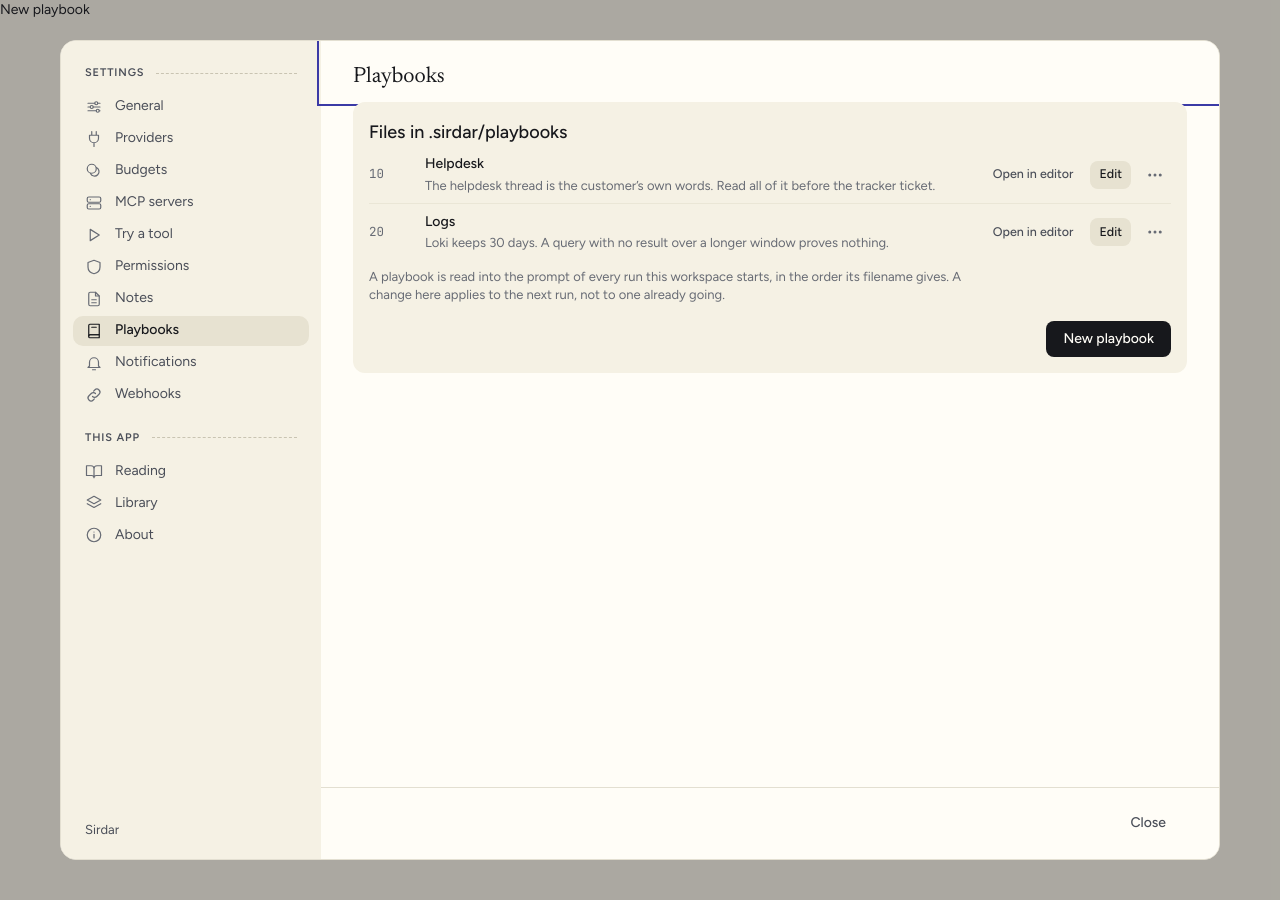
Scenario: the editor › leaves without asking when nothing was typed
Click the button with aria-label "Edit Helpdesk" at (1111, 174), box [1090,160,1131,188]
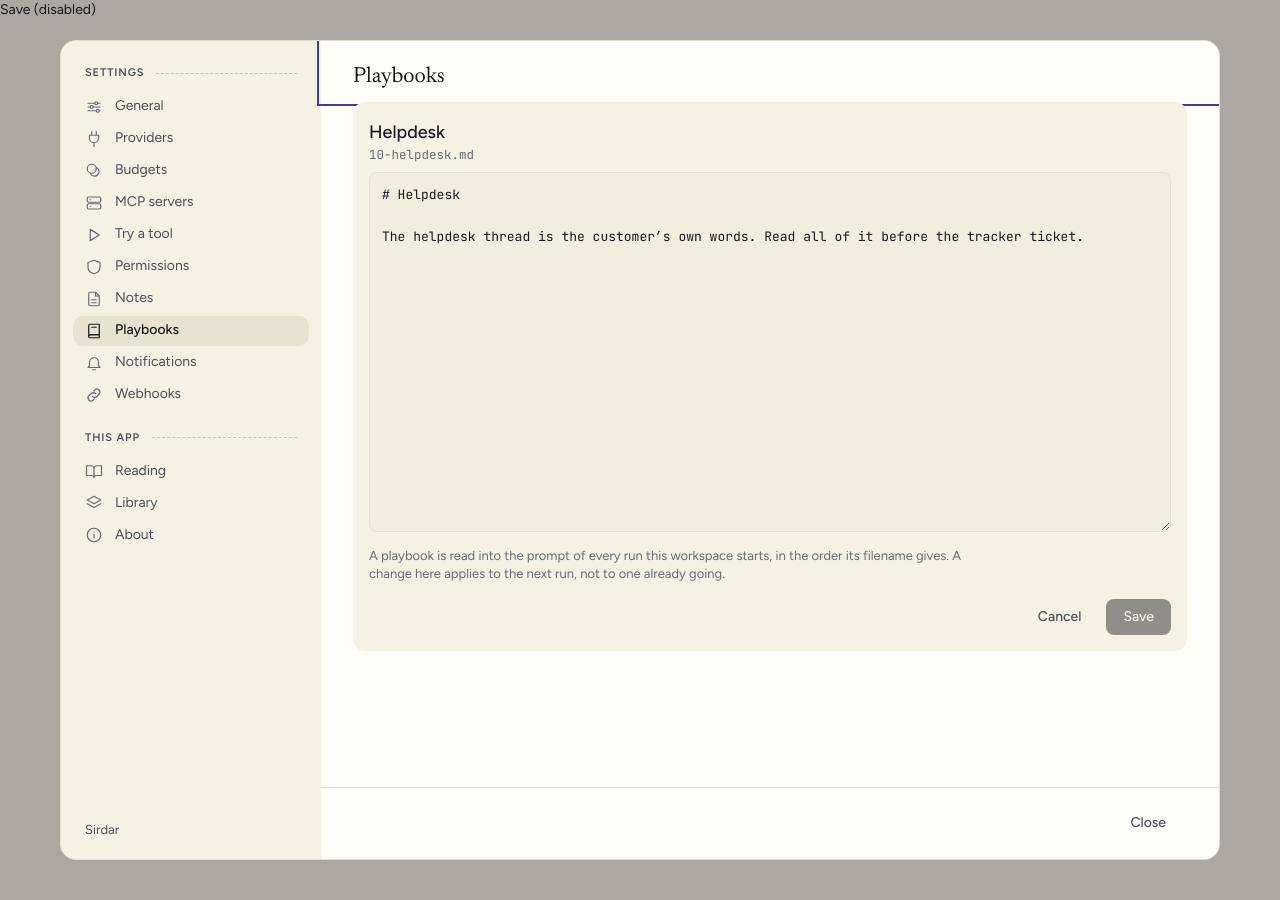
Check: the text box labelled "10-helpdesk.md" is shown, box [369,172,1171,532]
Click the button "Cancel" at (1060, 617), box [1025,599,1094,635]
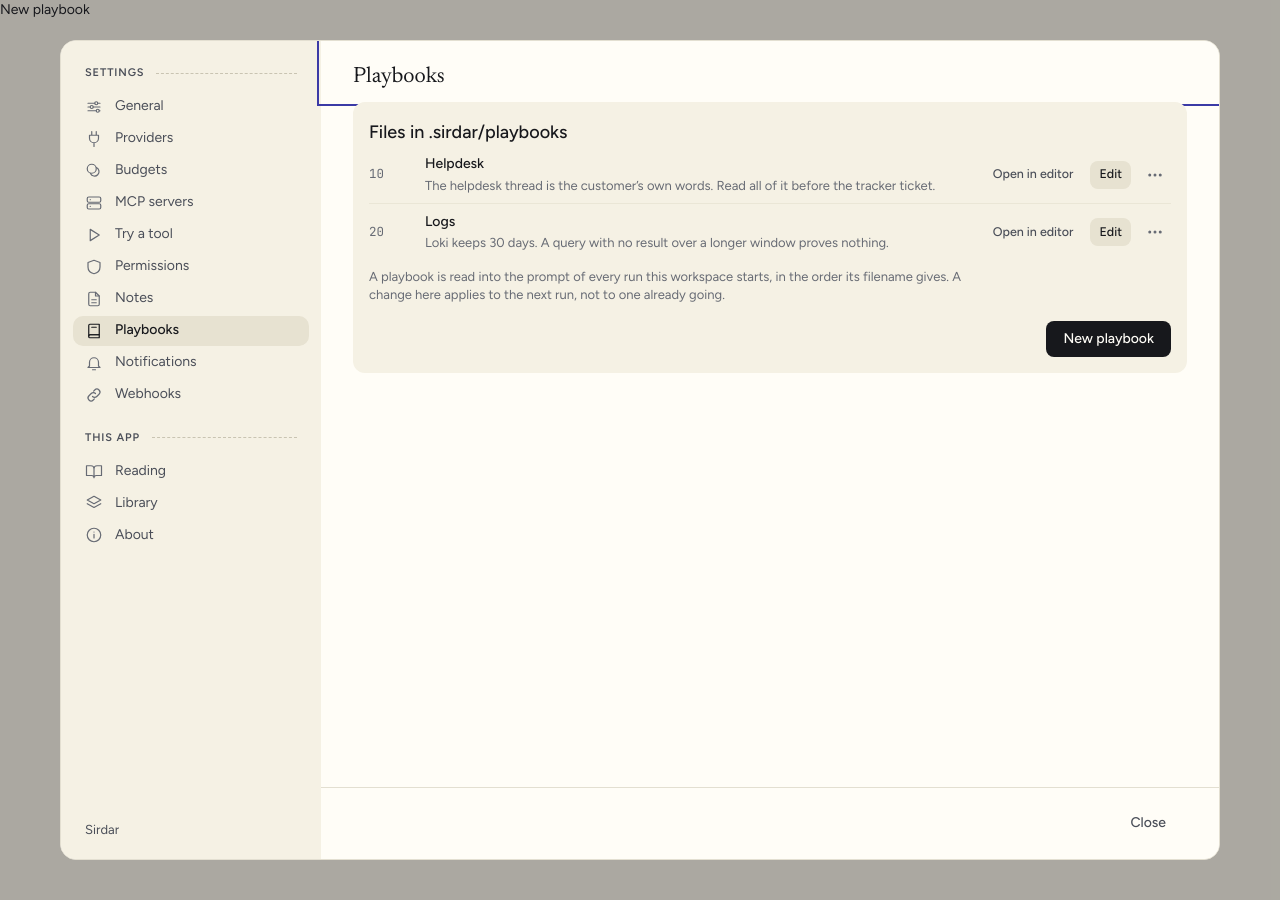
Check: the button with aria-label "Edit Helpdesk" is shown, box [1090,160,1131,188]
